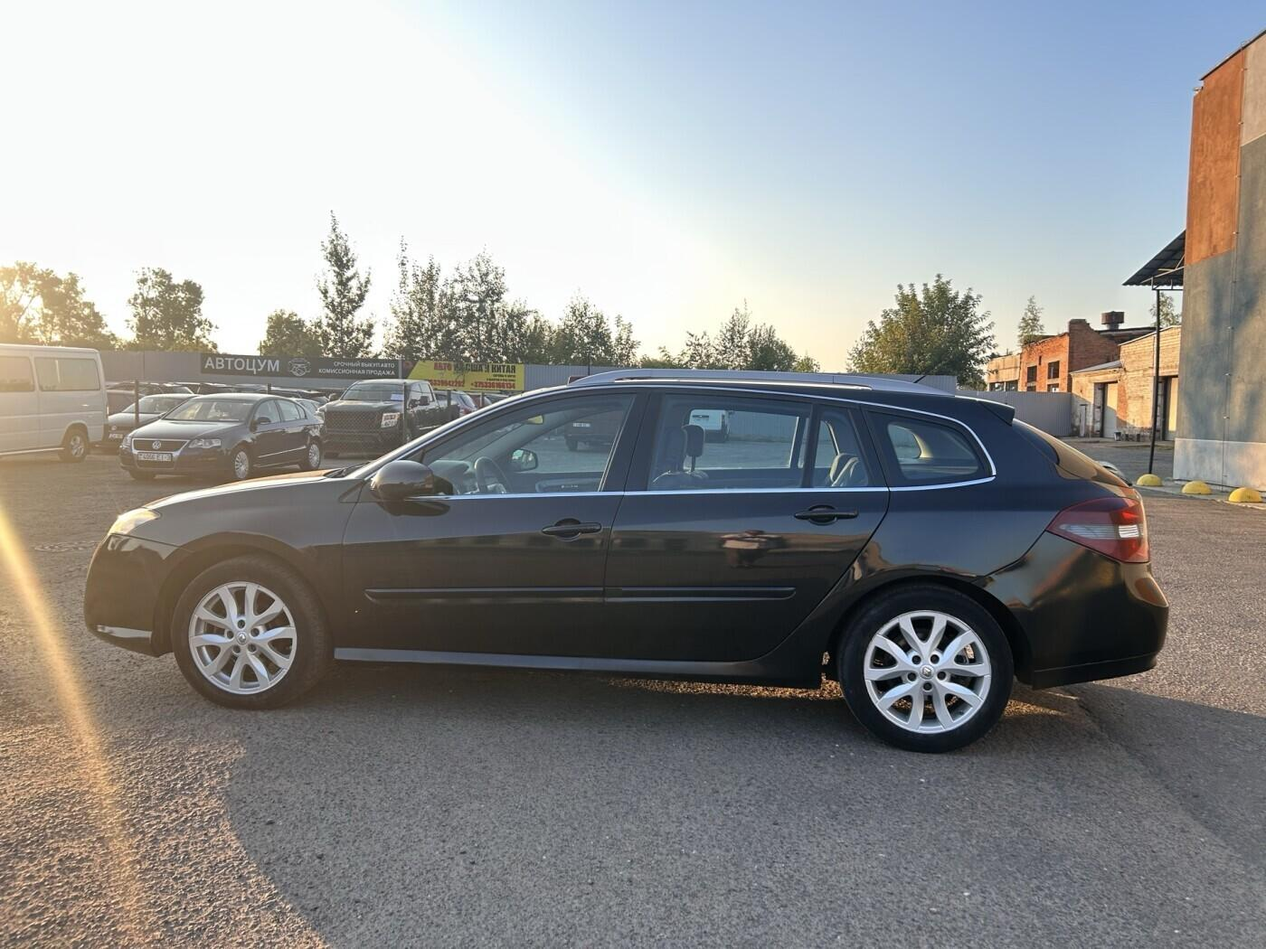Laguna_2007-2011: (85, 371, 1167, 752)
